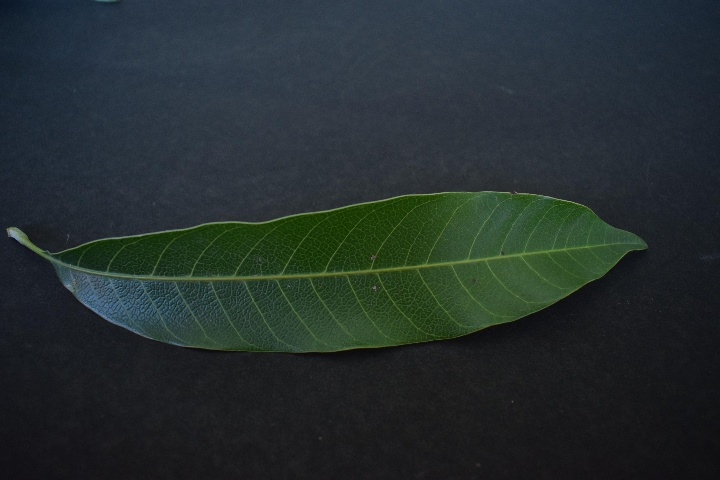healthy: (65, 200, 629, 358)
